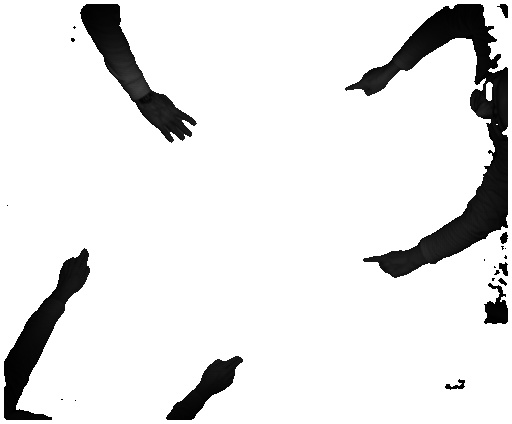hand: (139, 93, 199, 143), (200, 352, 247, 399), (56, 248, 95, 302), (360, 251, 415, 279), (344, 68, 392, 95)
